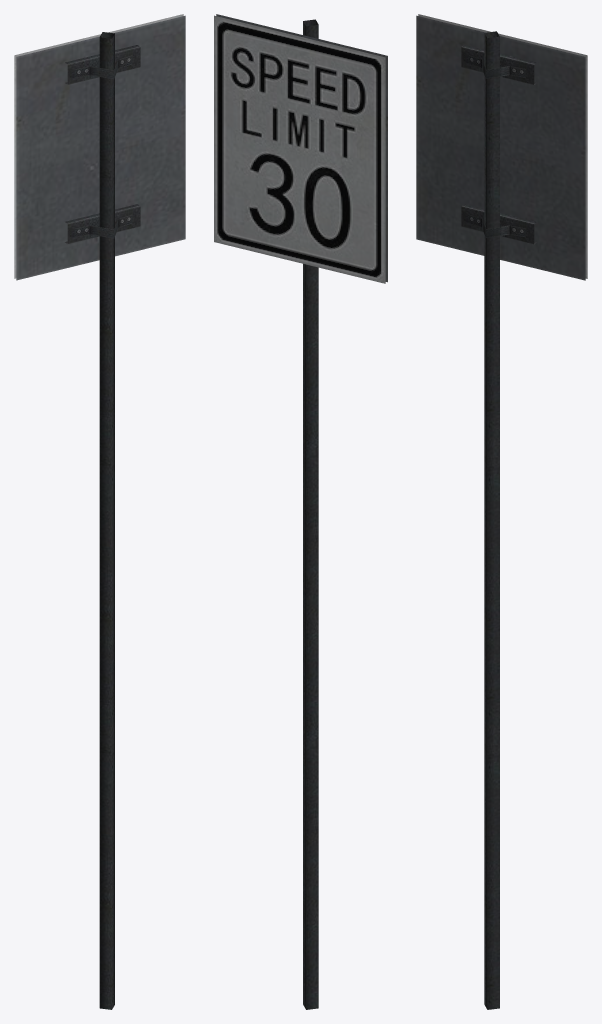
Rendered from Speed_Limit_-_30_mph.glb.
3 renders of one model, left to right at view 1: azimuth 30°, elevation 25°; view 2: azimuth 150°, elevation 25°; view 3: azimuth 330°, elevation 25°, orthographic.
Parts seen in each view (by area): view 1: Speed_Limit_30mph__LOD1; view 2: Speed_Limit_30mph__LOD1; view 3: Speed_Limit_30mph__LOD1.
Part boxes in pixels (<box>): Speed_Limit_30mph__LOD1: <box>14,14,185,1009</box>; Speed_Limit_30mph__LOD1: <box>214,14,387,1009</box>; Speed_Limit_30mph__LOD1: <box>416,14,587,1009</box>.
Bounding box in the file's own units: 0.546 × 2.99 × 0.0909.
1 material, 1 textured.
